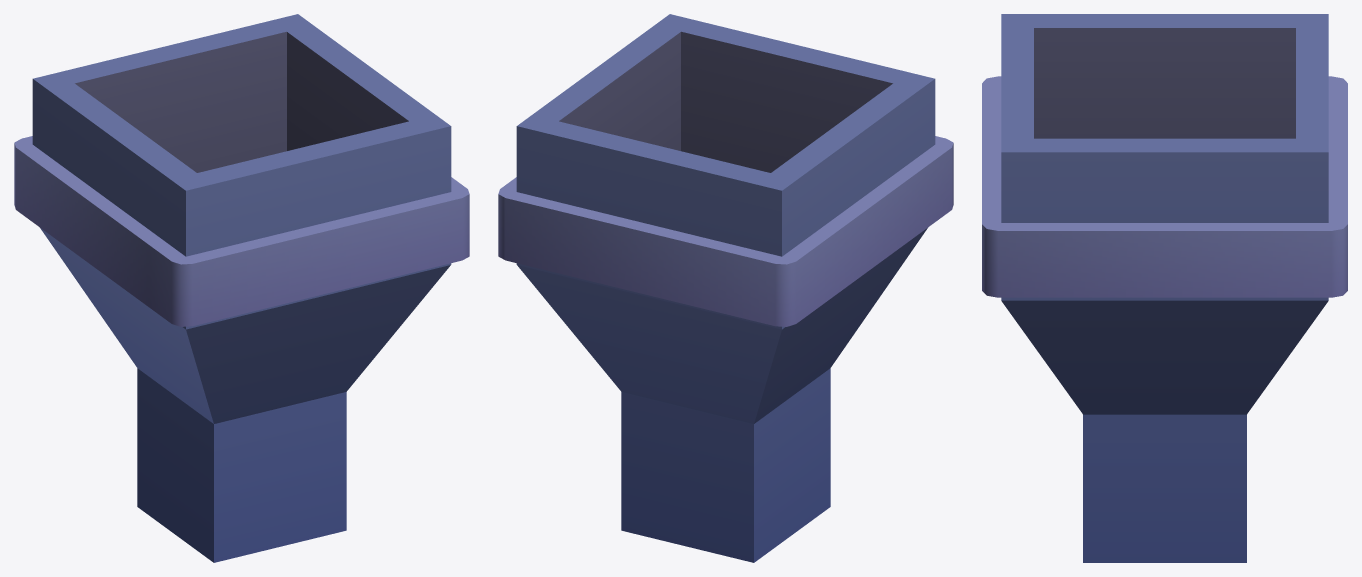
Rendered from kenney-factory-hopper-high-square.glb.
3 renders of one model, left to right at view 1: azimuth 30°, elevation 25°; view 2: azimuth 150°, elevation 25°; view 3: azimuth 270°, elevation 25°, orthographic. The views are drawn at different scales.
Parts seen in each view (by area): view 1: hopper-high-square; view 2: hopper-high-square; view 3: hopper-high-square.
Part boxes in pixels (left/top/right/bottom): hopper-high-square: left=14, top=14, right=469, bottom=562; hopper-high-square: left=498, top=14, right=953, bottom=562; hopper-high-square: left=982, top=14, right=1347, bottom=562.
Bounding box in the file's own units: 1.68 × 2.25 × 1.68.
Materials: 1 (1 with a texture image).
